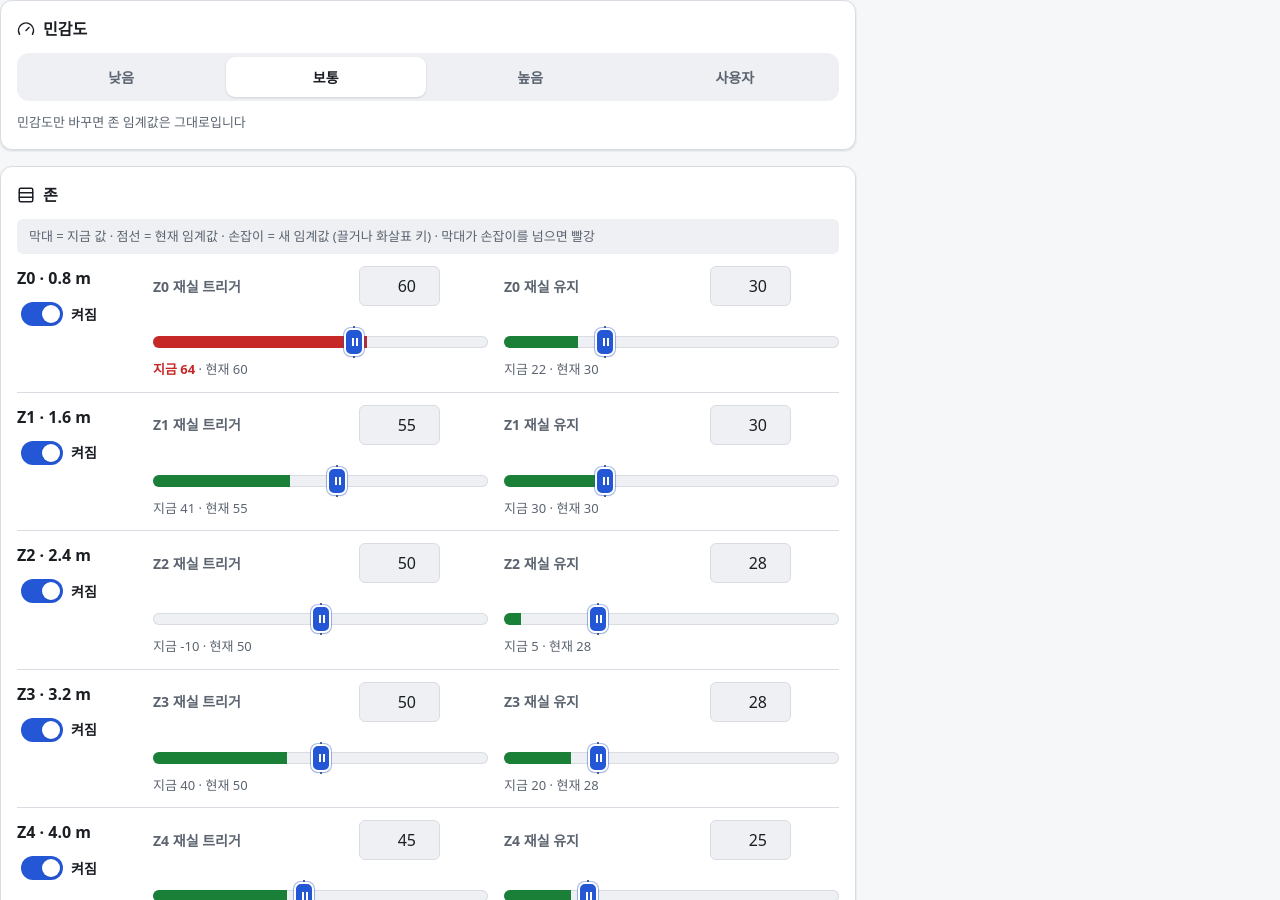
Test: SettingsTab › a 409 on preview is shown in words
Click the radio button labelled "높음".
click(530, 77)  # box x1=517 y1=68 x2=543 y2=86
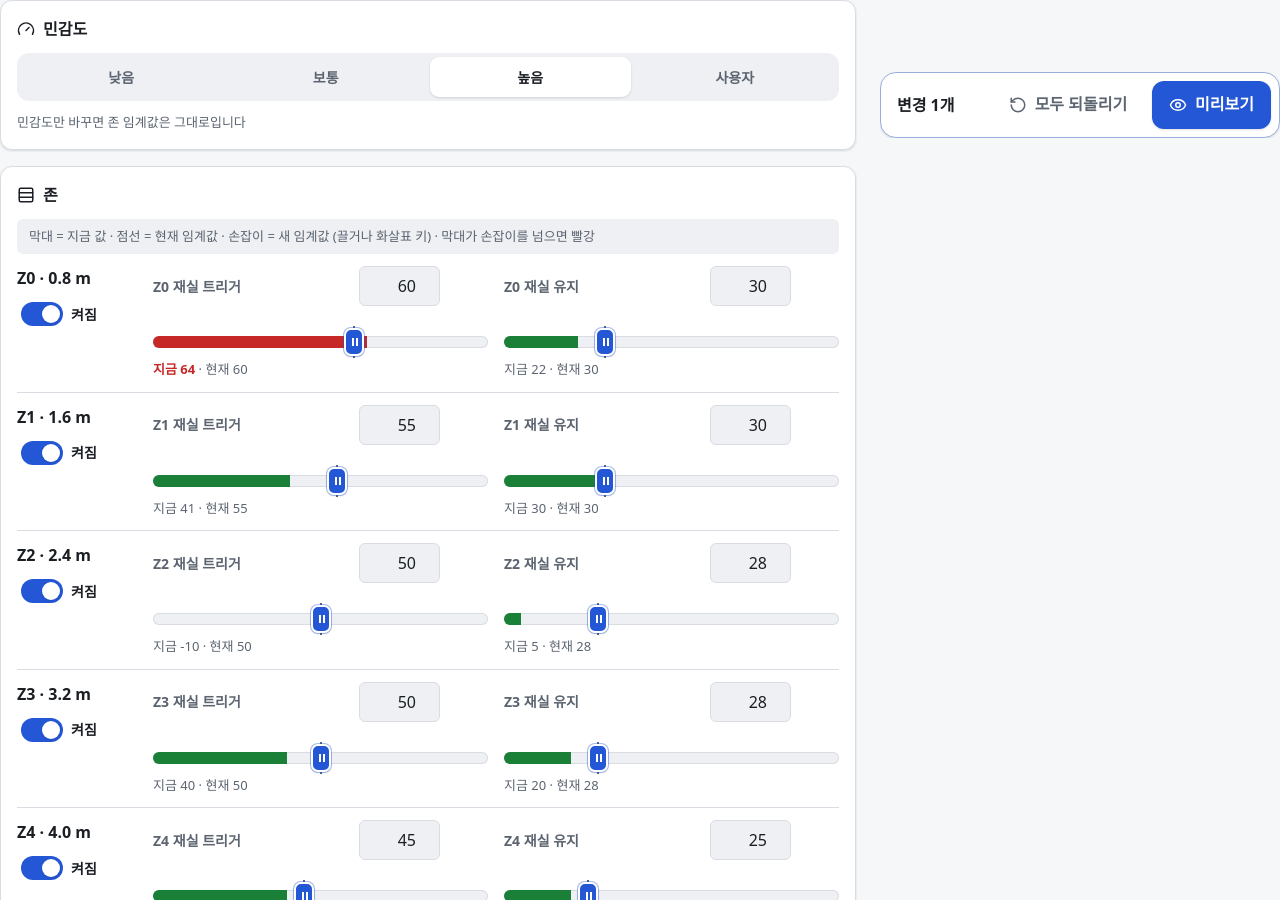
Expected: the text "변경 1개" is shown, x1=897 y1=93 x2=954 y2=117
Click the button "미리보기".
click(1212, 105)  # box x1=1152 y1=81 x2=1271 y2=129
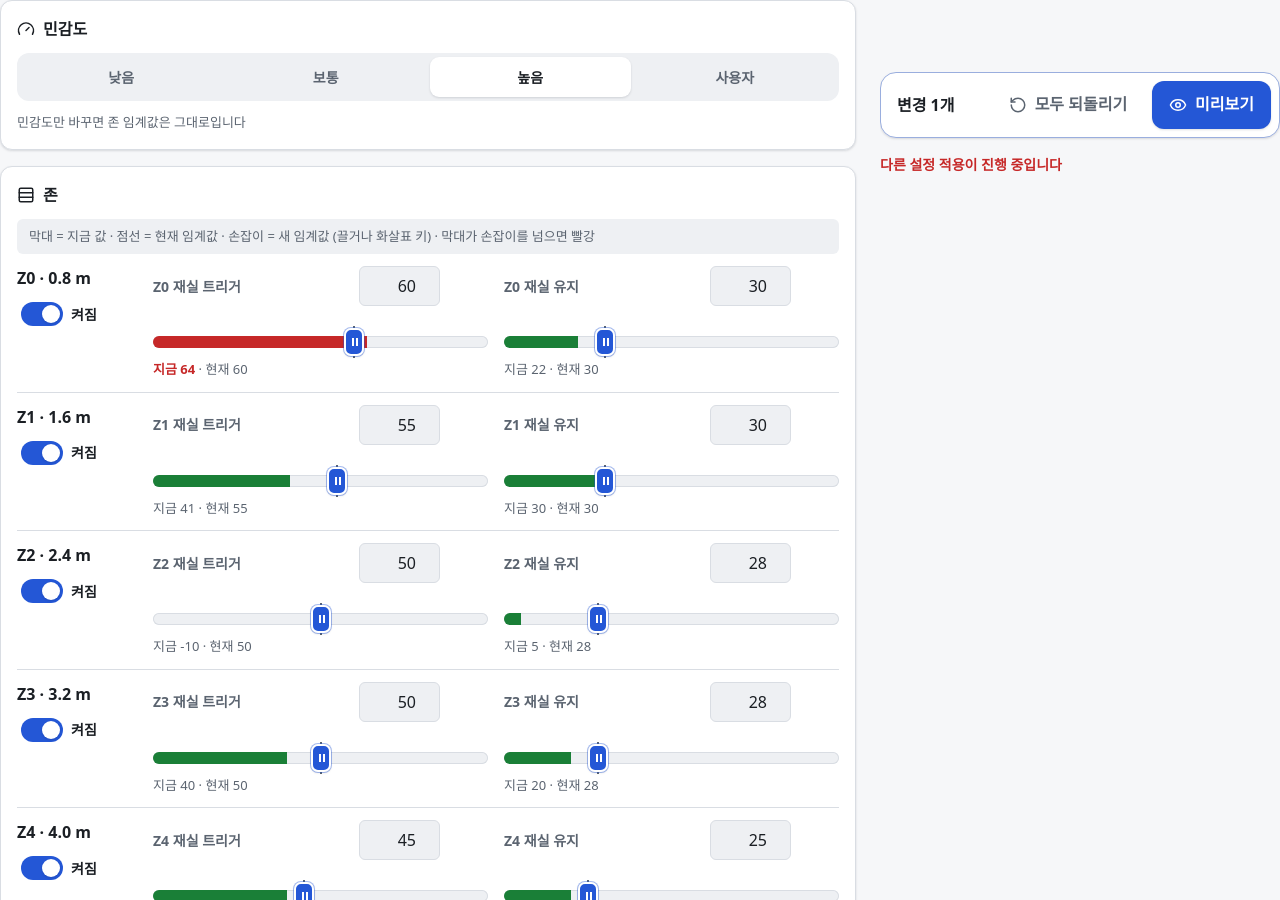
Expected: the message reads "다른 설정 적용이 진행 중입니다", x1=880 y1=155 x2=1062 y2=174
